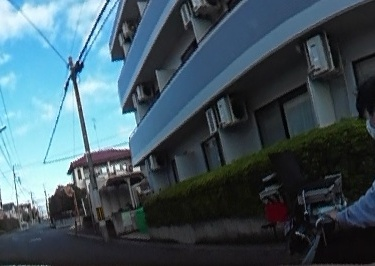person: (327, 72, 375, 266)
